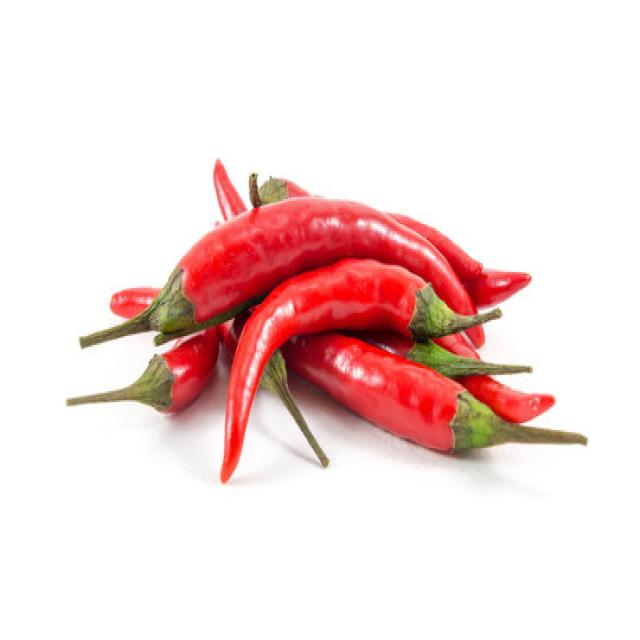Chilli: (77, 164, 504, 354), (218, 256, 501, 484), (281, 329, 588, 455), (65, 324, 219, 414), (212, 157, 248, 220)
Radish: (211, 158, 329, 470)
